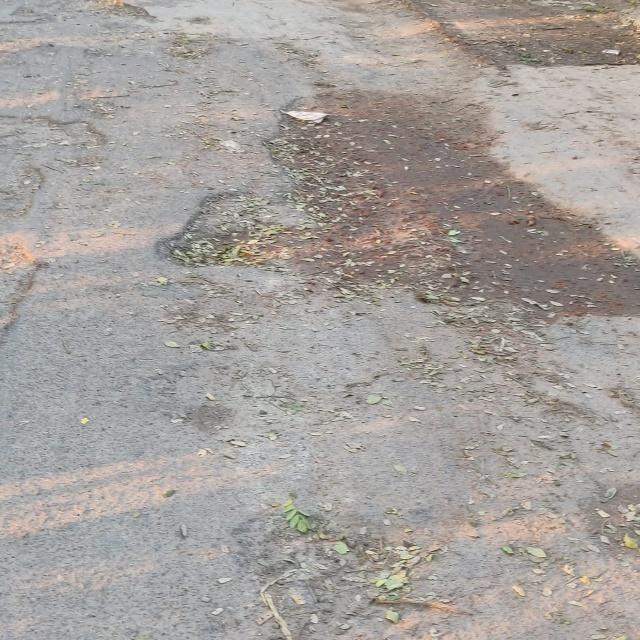Surface Erosion: (7, 0, 640, 476)
